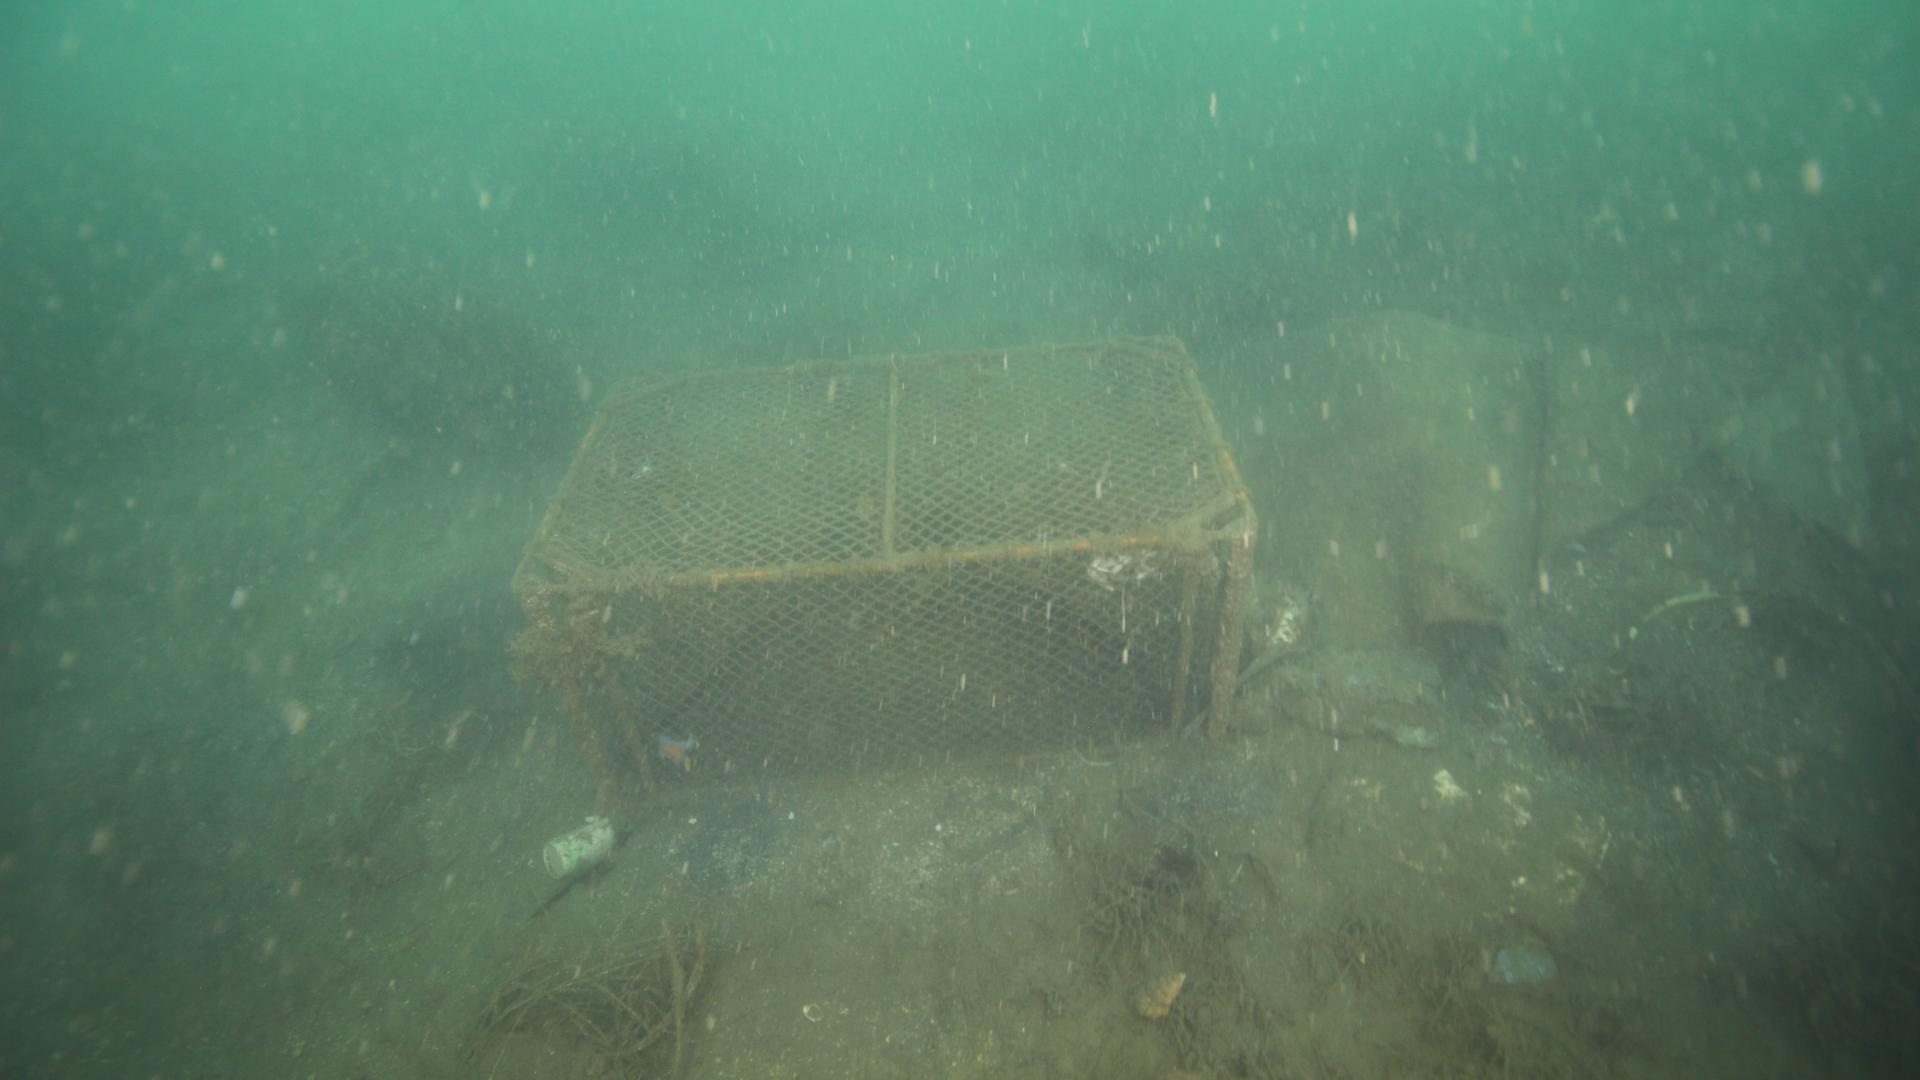rectangular fish trap: (506, 332, 1255, 799)
